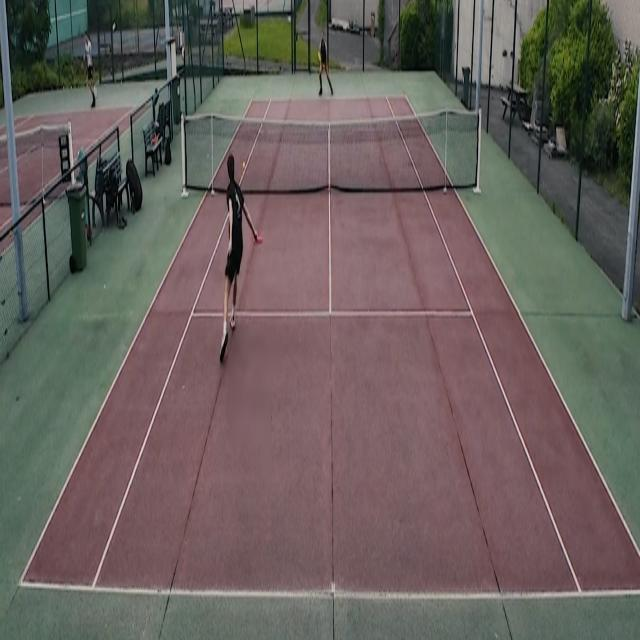ball: (242, 160, 245, 171)
